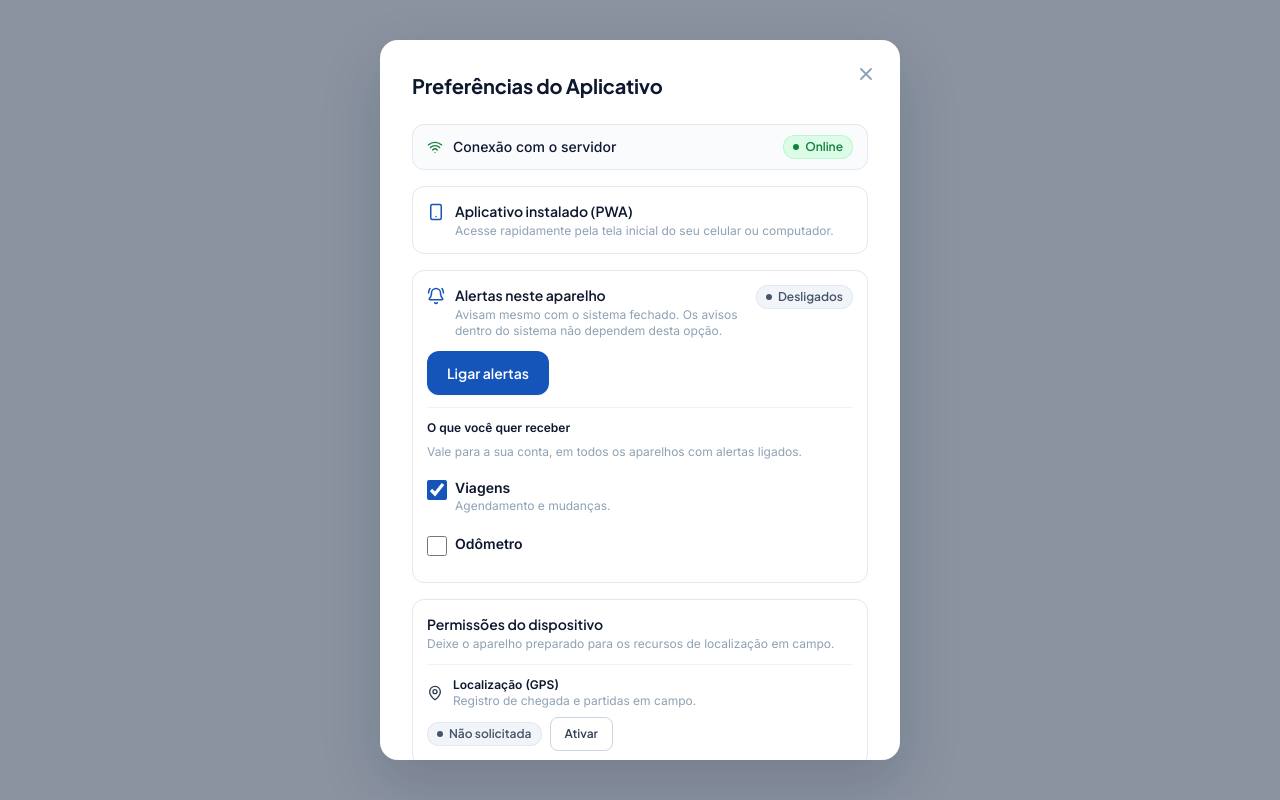
Test: Ligar e desligar neste aparelho › se a chave pública falhar, não assina nada
Click the button "Ligar alertas": (488, 373) [427,351,549,395]
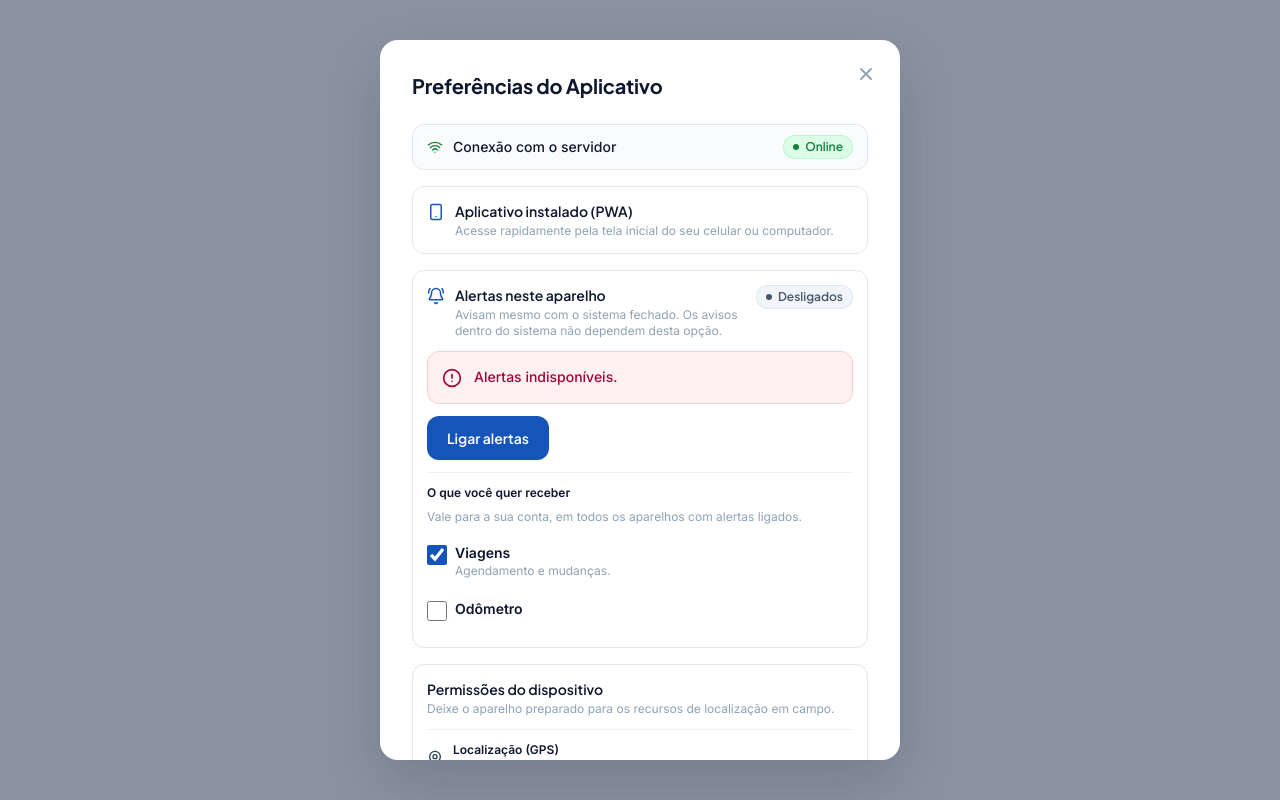
Now the text "Alertas indisponíveis." is shown, box [474,368,617,385]
